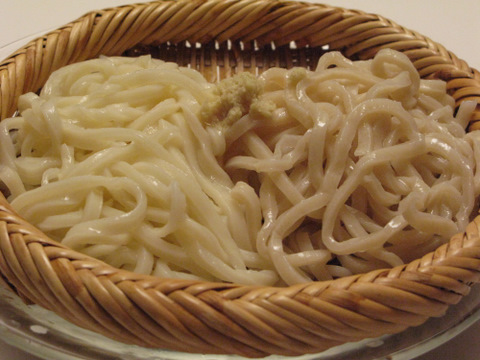Soba: (237, 41, 480, 277)
